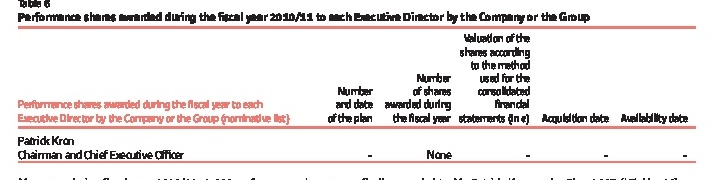table: (0, 0, 713, 180)
